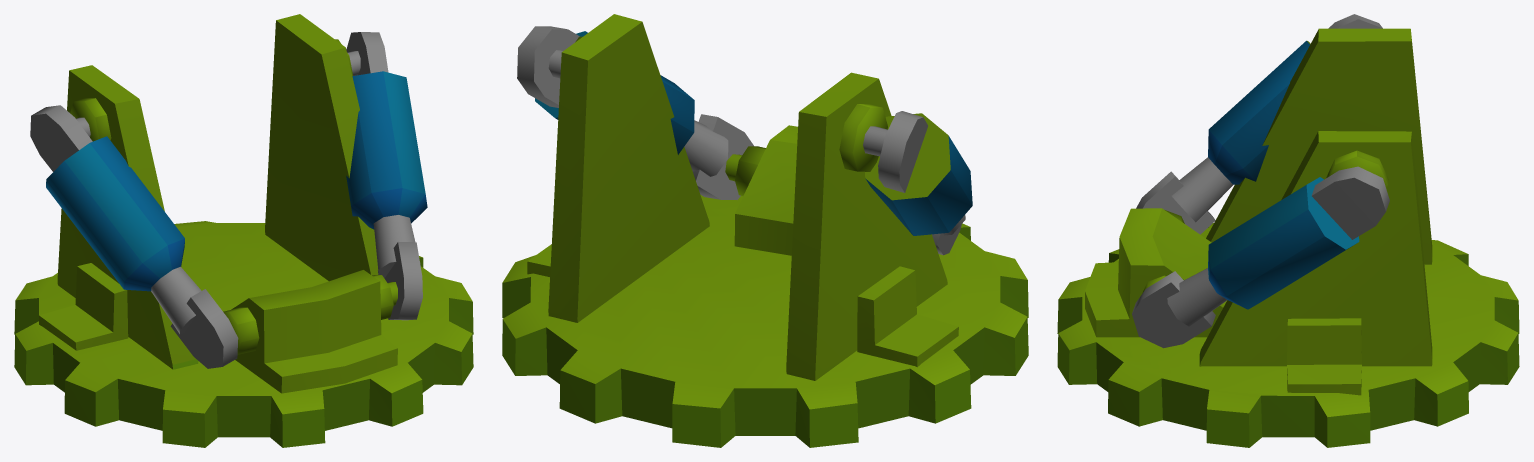
The model's file is MortarG_Stand00.FBX.
3 views of the same model, side by side, from view 1: azimuth 30°, elevation 25°; view 2: azimuth 150°, elevation 25°; view 3: azimuth 270°, elevation 25° (orthographic). The views are drawn at different scales.
Visible parts, largest first — view 1: MortarG_Stand00; view 2: MortarG_Stand00; view 3: MortarG_Stand00.
Boxes of the visible parts, x1,y1,x2,y2 form: MortarG_Stand00: (14,14,473,447); MortarG_Stand00: (502,14,1028,447); MortarG_Stand00: (1057,14,1519,447).
Bounding box in the file's own units: 211 × 134 × 211.
